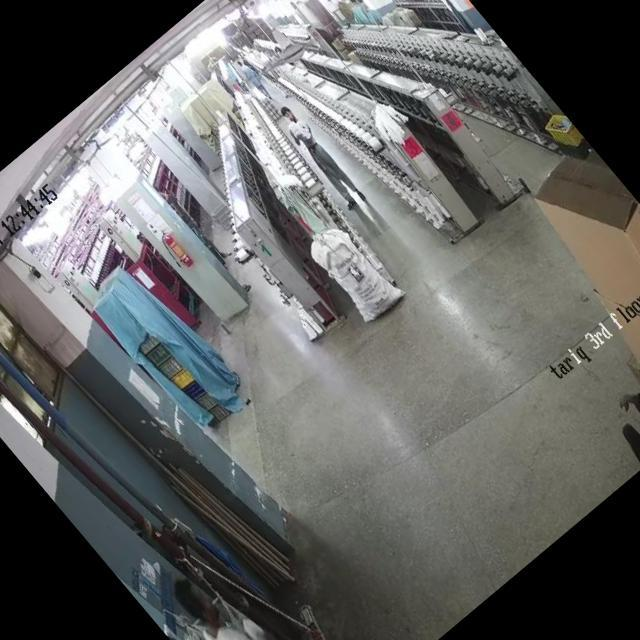person: (169, 549, 351, 640), (274, 102, 364, 206), (605, 381, 640, 464), (235, 56, 270, 95)
